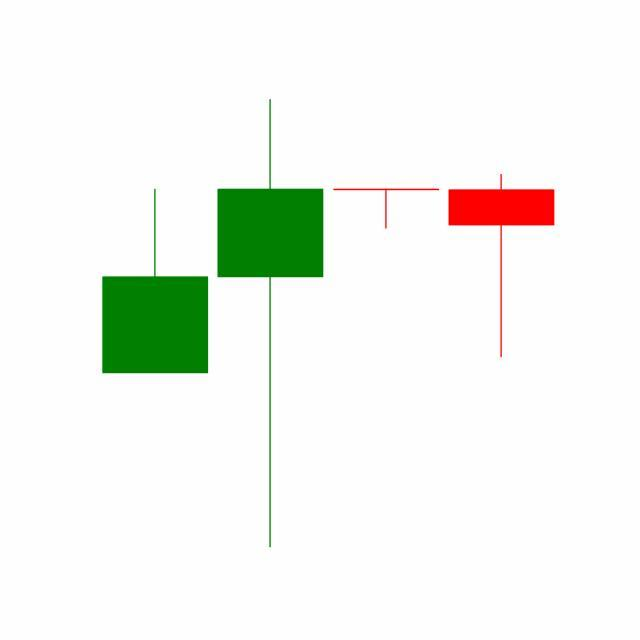Hanging Man: (444, 173, 560, 361)
